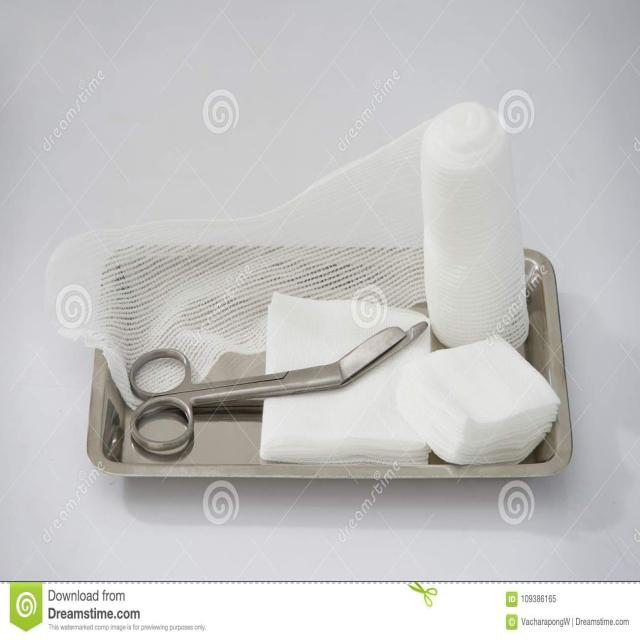B3: (113, 315, 436, 456)
